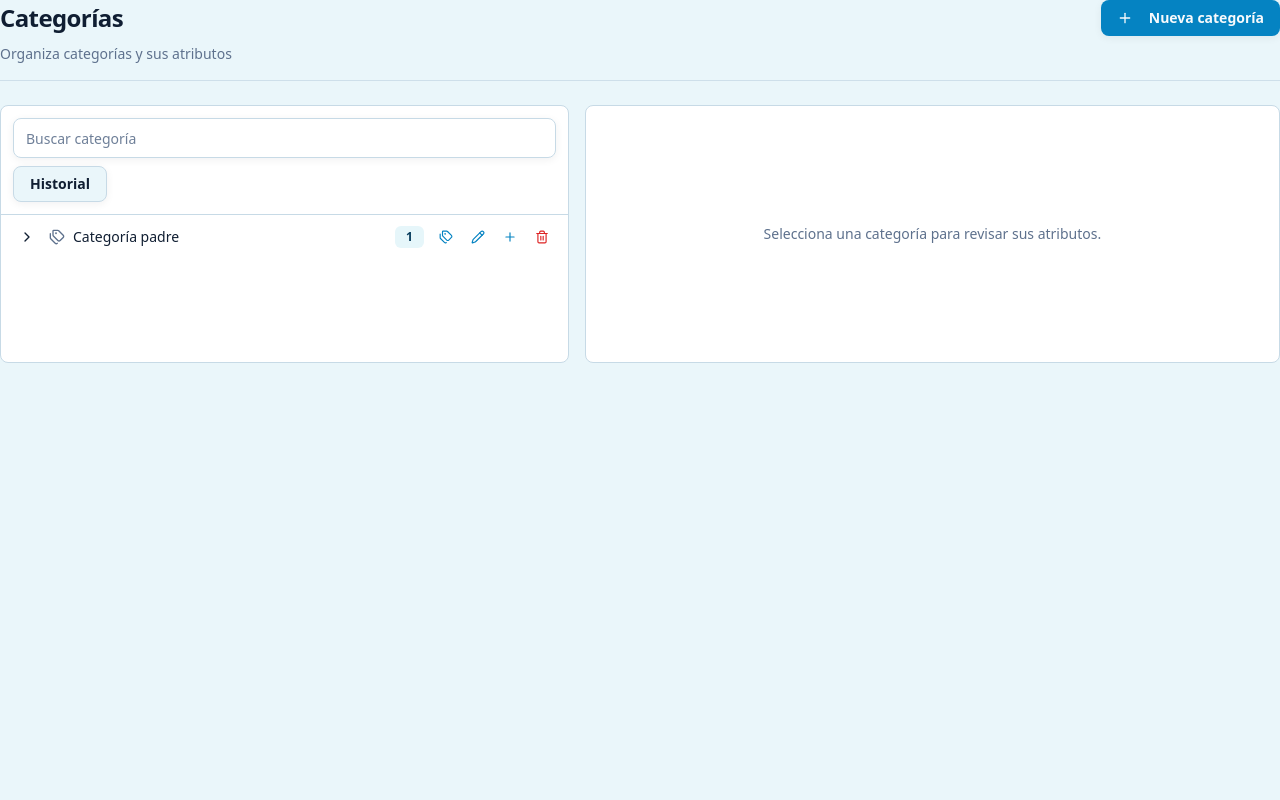
CategoriasPage › edita inline y muestra el nombre actualizado en Categorías tras confirmar el preview
Click the button named "Expandir Categoría padre" at x=27, y=237, box [13, 223, 41, 251]
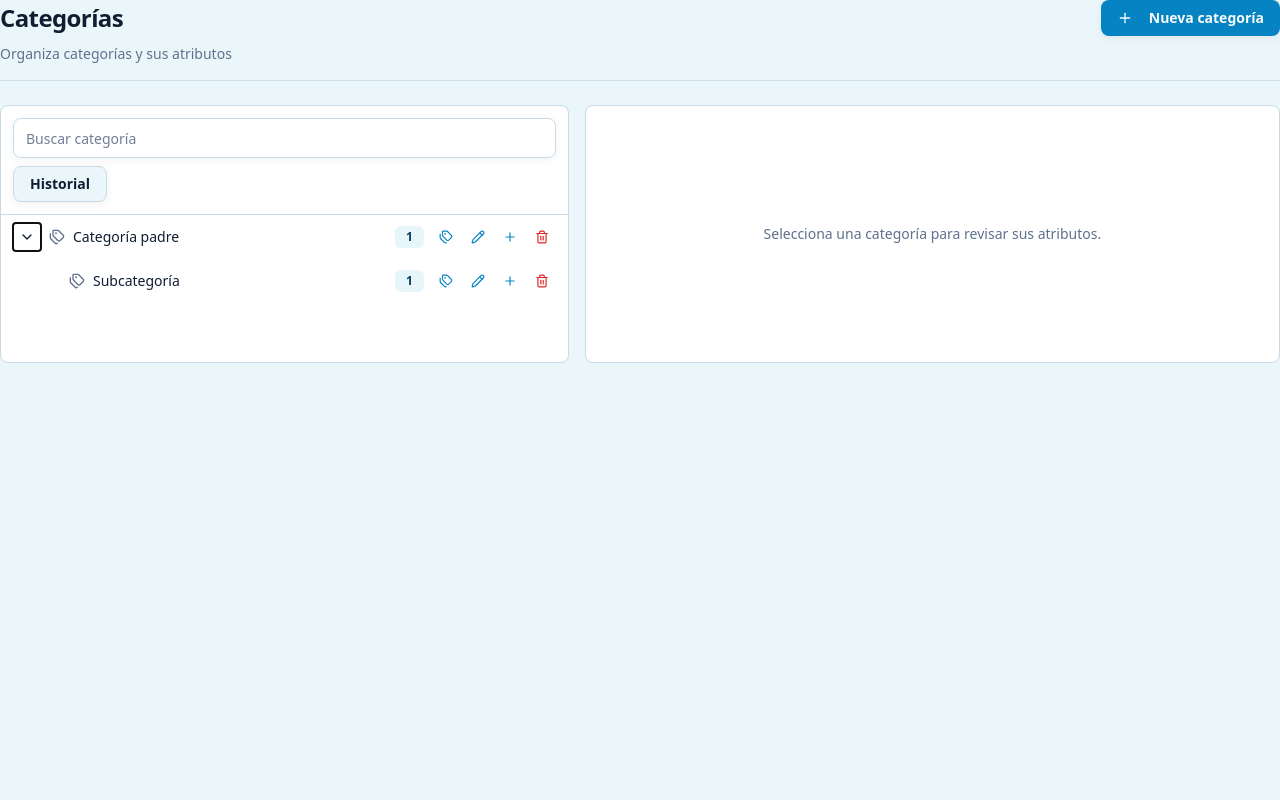
Click the button "Subcategoría" at x=136, y=280, box [93, 271, 387, 291]
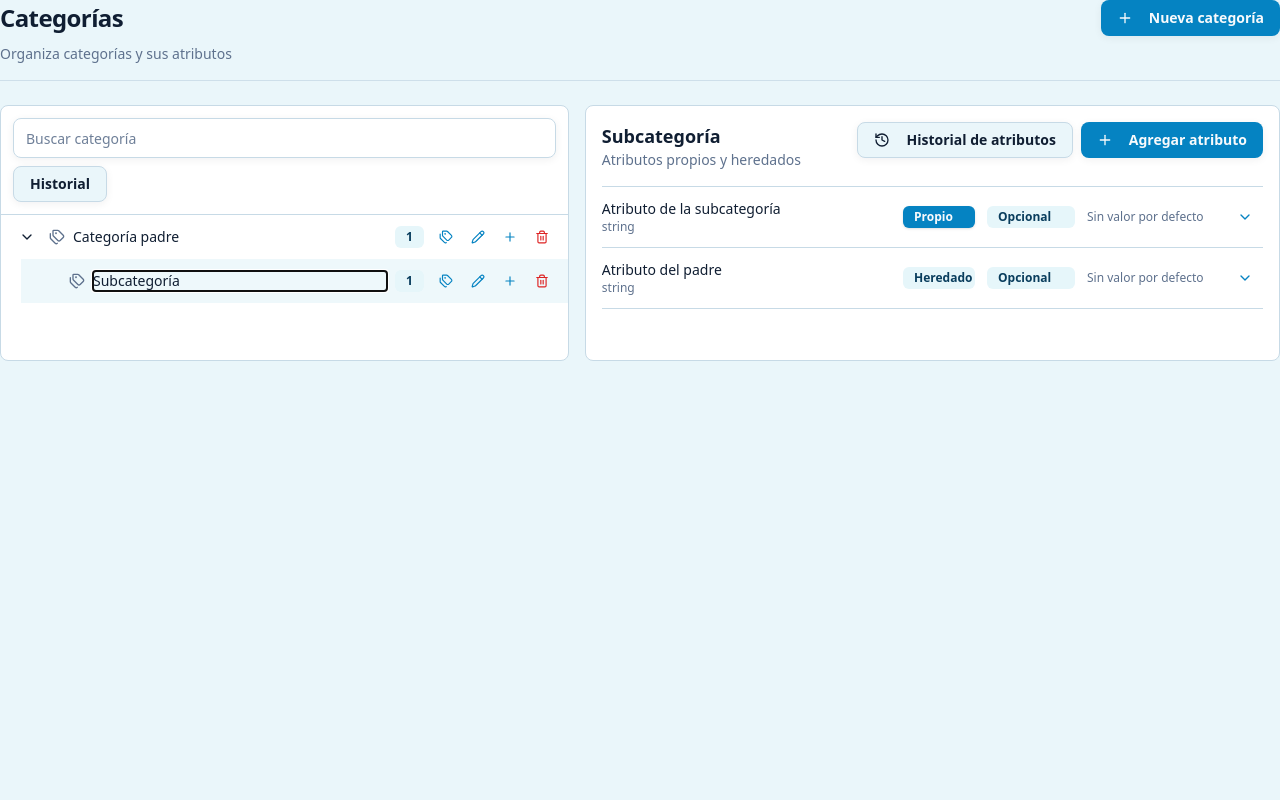
Click the button named "Acciones de Atributo de la subcategoría" at x=1245, y=217, box [1227, 199, 1263, 235]
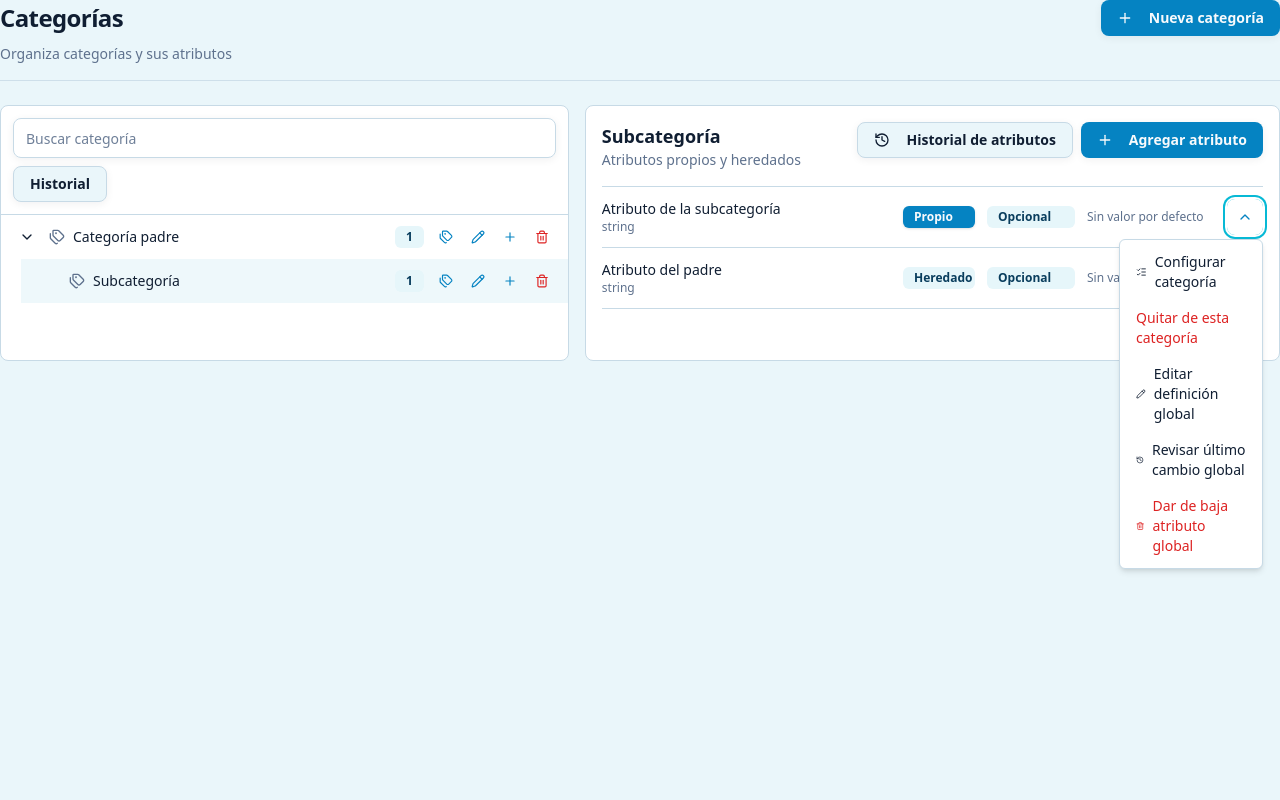
Click the menu item "Editar definición global" at x=1191, y=394, box [1124, 356, 1258, 432]
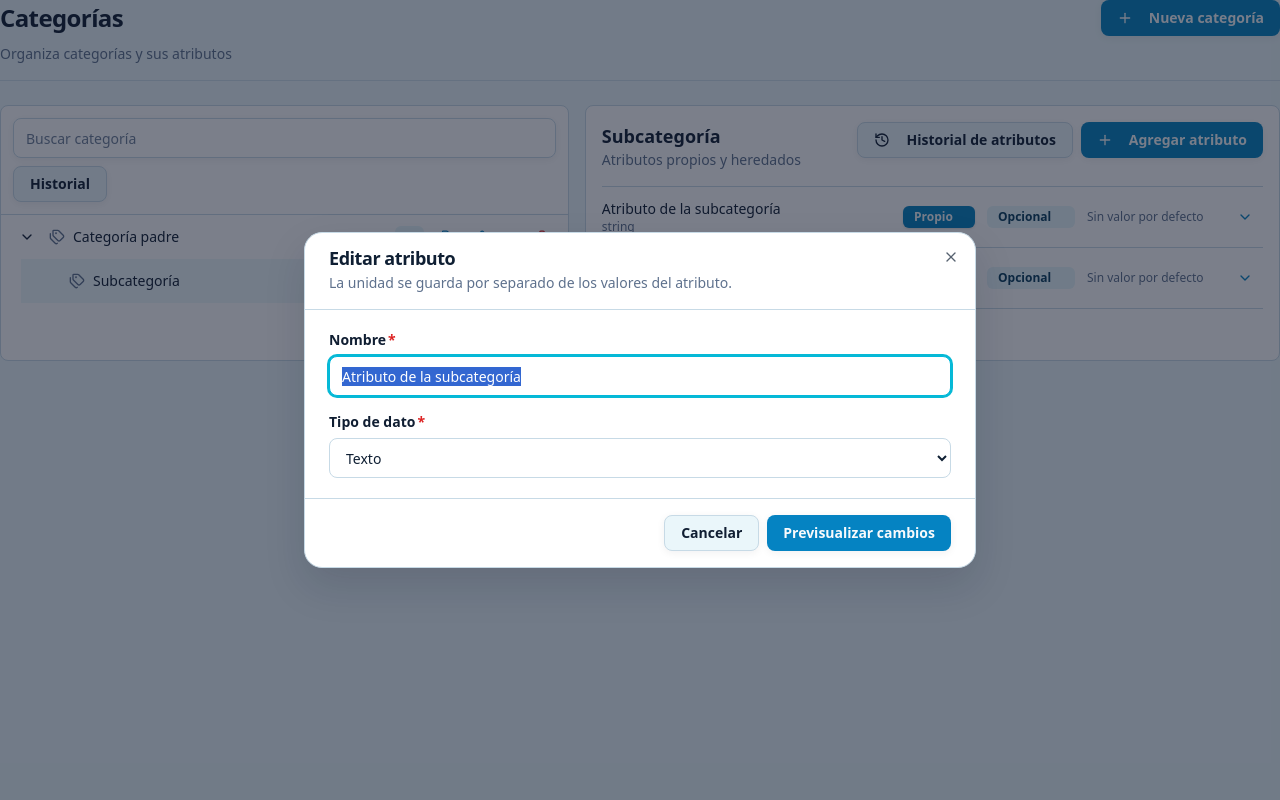
Replace the text in the field labelled "Nombre" with "Garantía extendida" at x=640, y=376, box [329, 356, 951, 396]
Click the button "Previsualizar cambios" at x=859, y=533, box [767, 515, 951, 551]
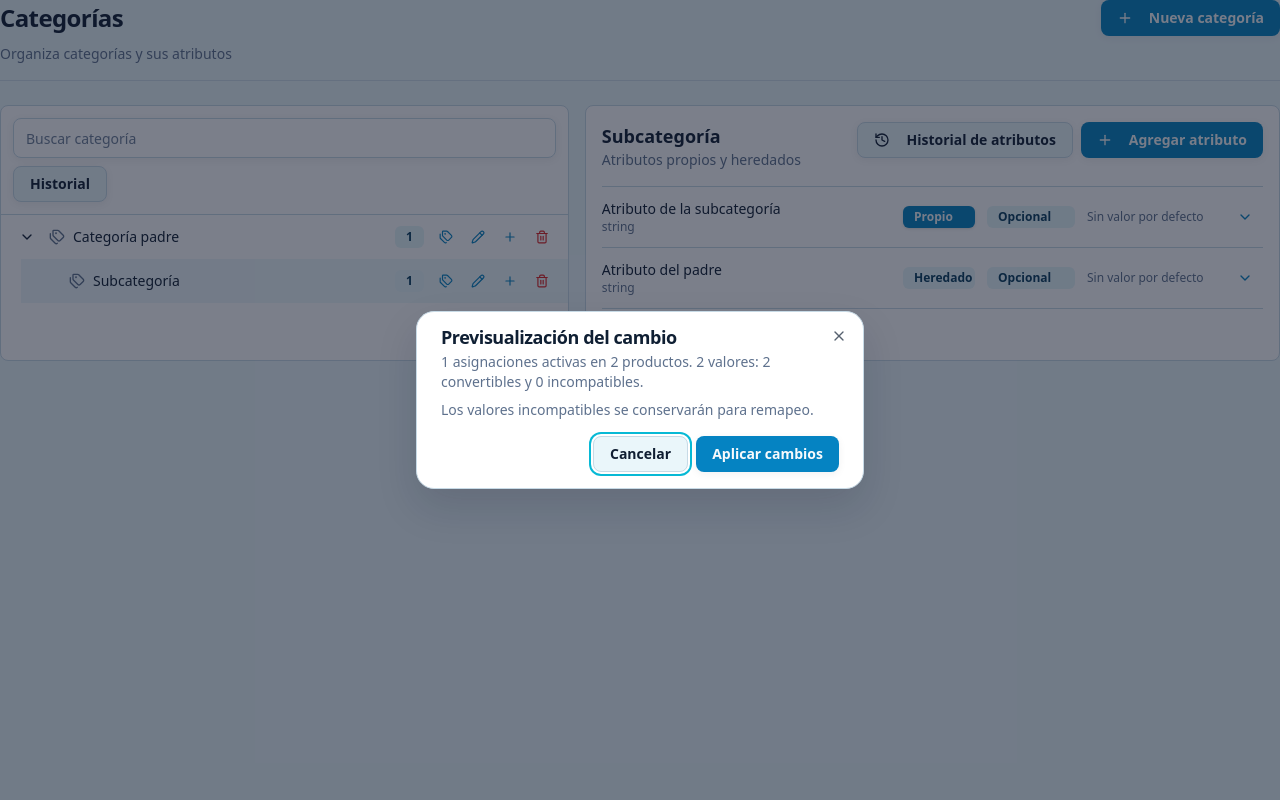
Now the text "2 valores: 2 convertibles y 0 incompatibles" is shown, box [441, 352, 770, 391]
Click the button "Aplicar cambios" at x=768, y=454, box [696, 436, 839, 472]
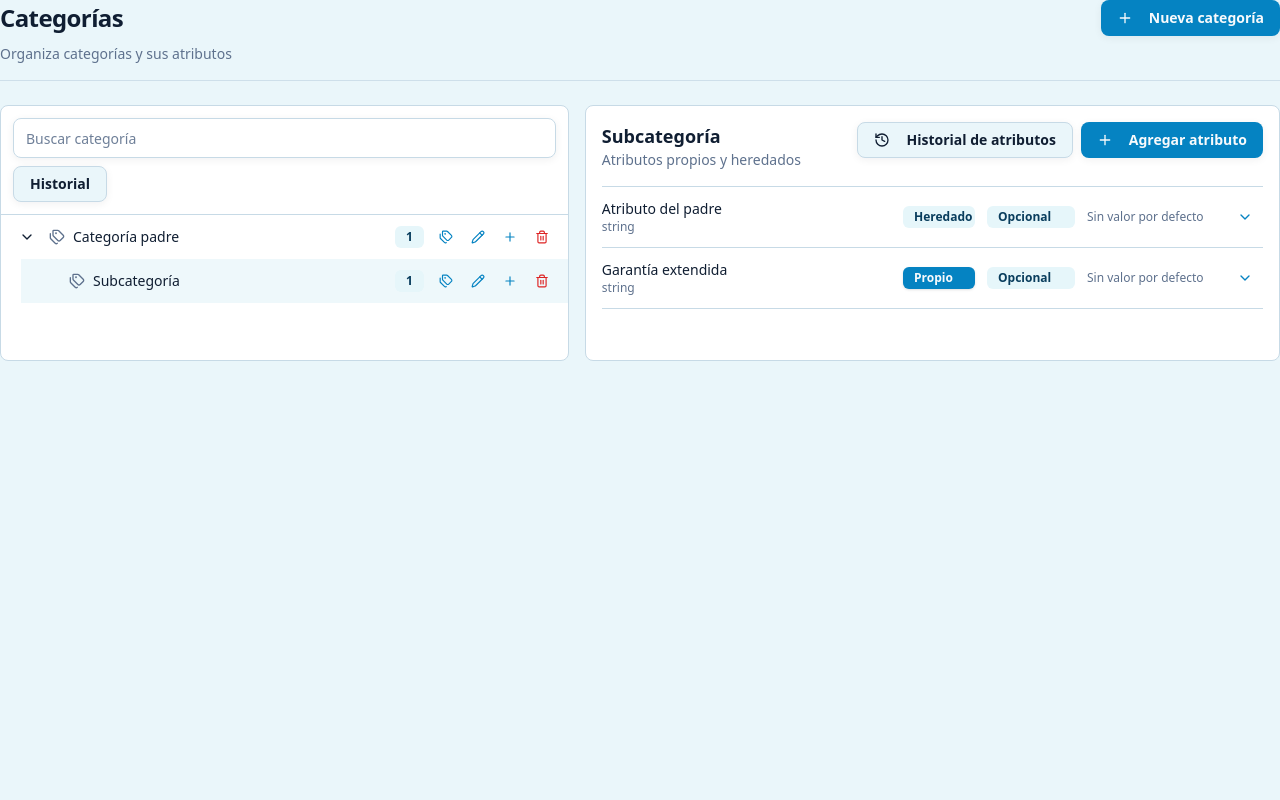
Now the text "Garantía extendida" is shown, box [602, 260, 727, 279]
